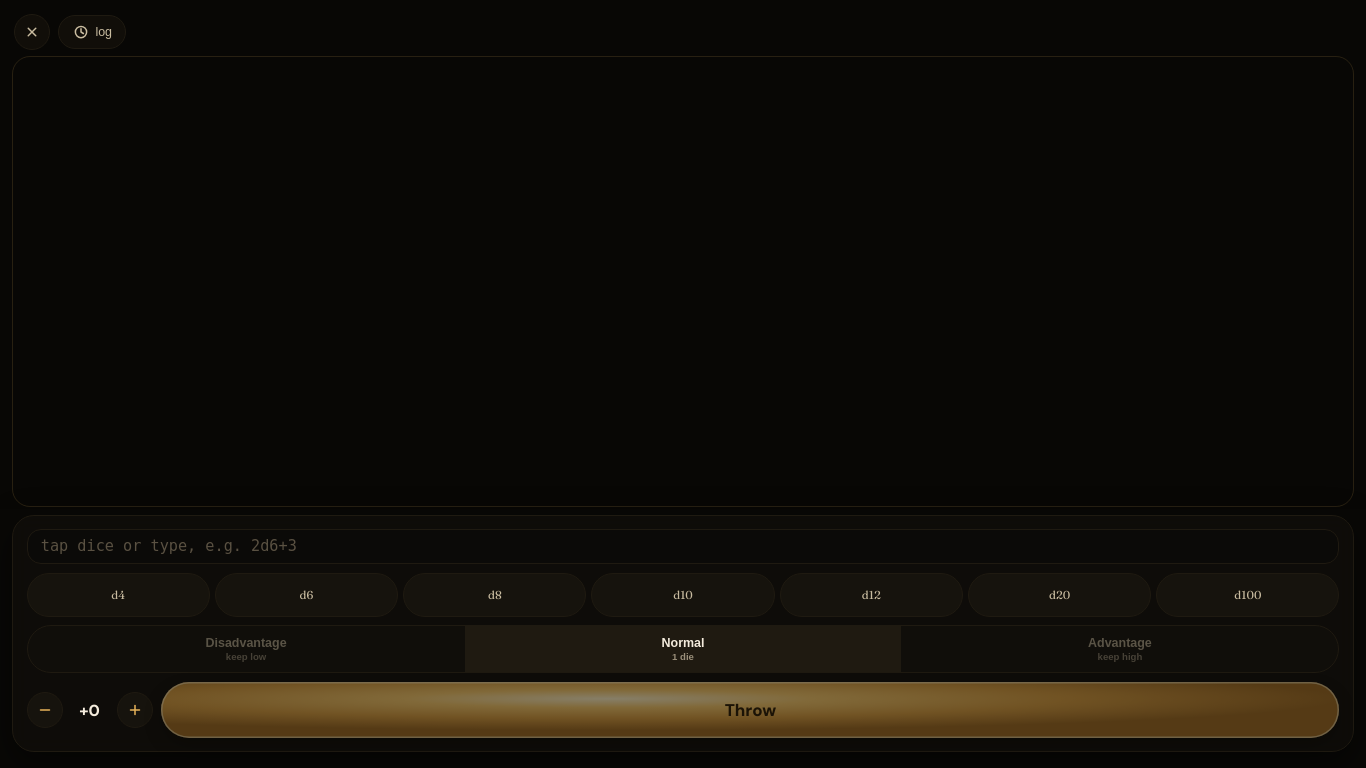
Scenario: DiceTray › ignores a tap on the dimmed area mid-roll — no sweep, no stuck Throwing
Click the button named "Add d20": (1060, 595) [968,573,1151,617]
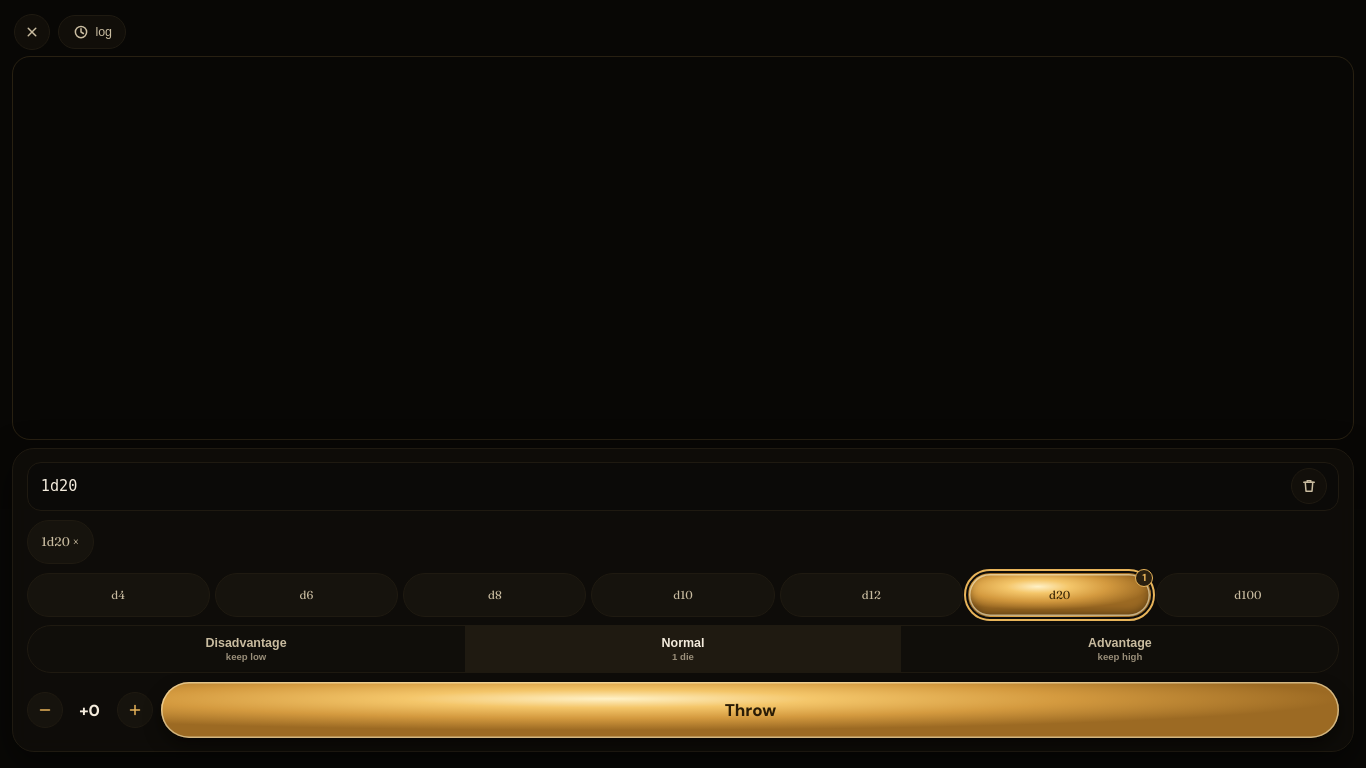
Click the button "Throw": (750, 710) [161,682,1339,738]
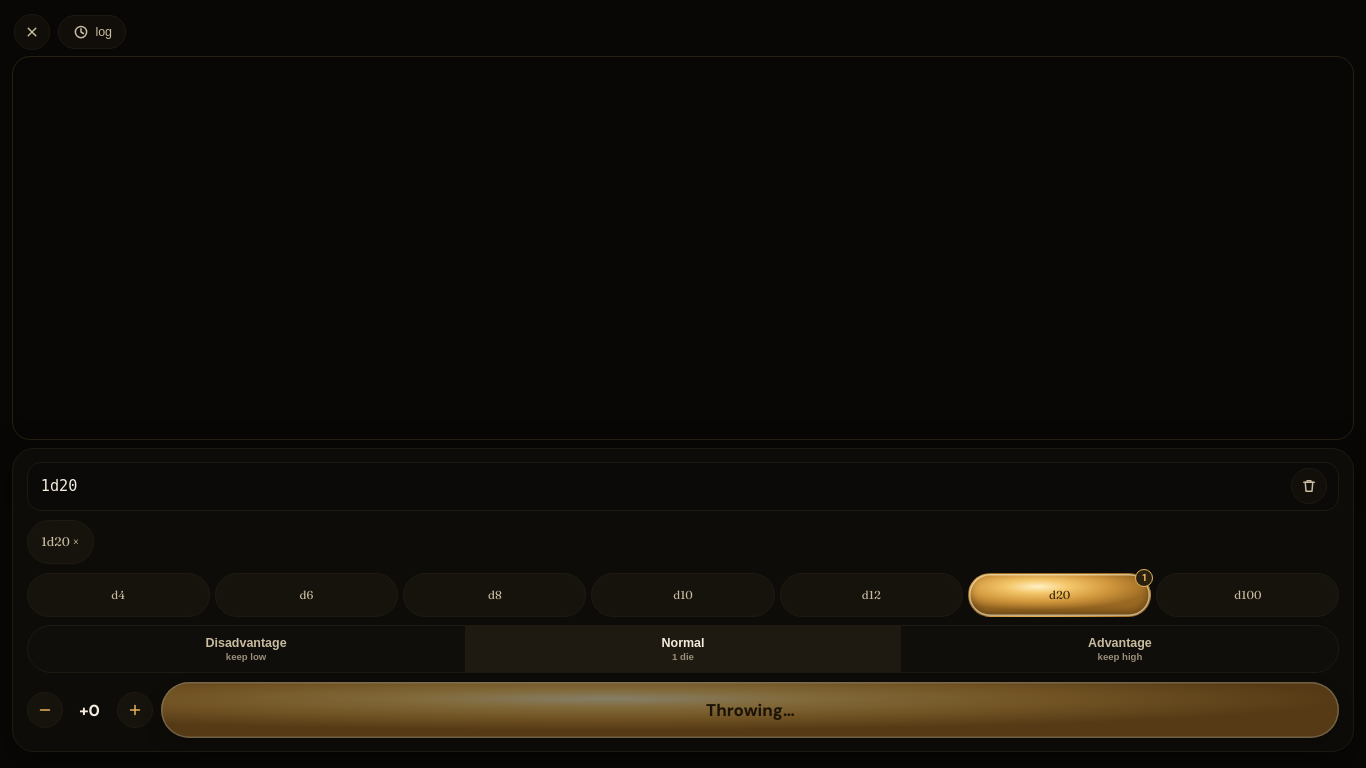
Tap the scrim WHILE the dice are still in flight — must not sweep them.
Click the element with class "dice-tray__scrim": (683, 384) [0,0,1365,767]
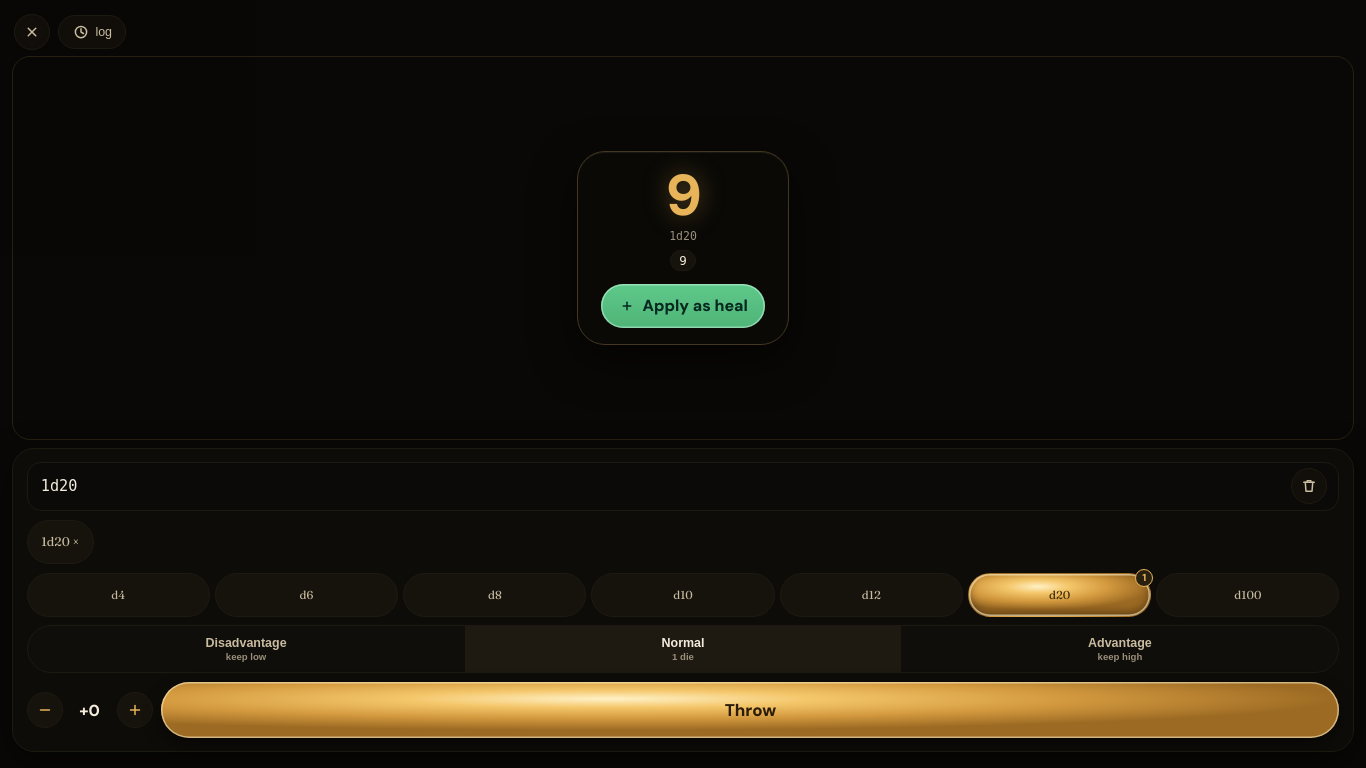
Result: the text with class "dice-result__total" reads "9" at [667,158,699,232]
Result: the button "Throw" is enabled at [161,682,1339,738]
